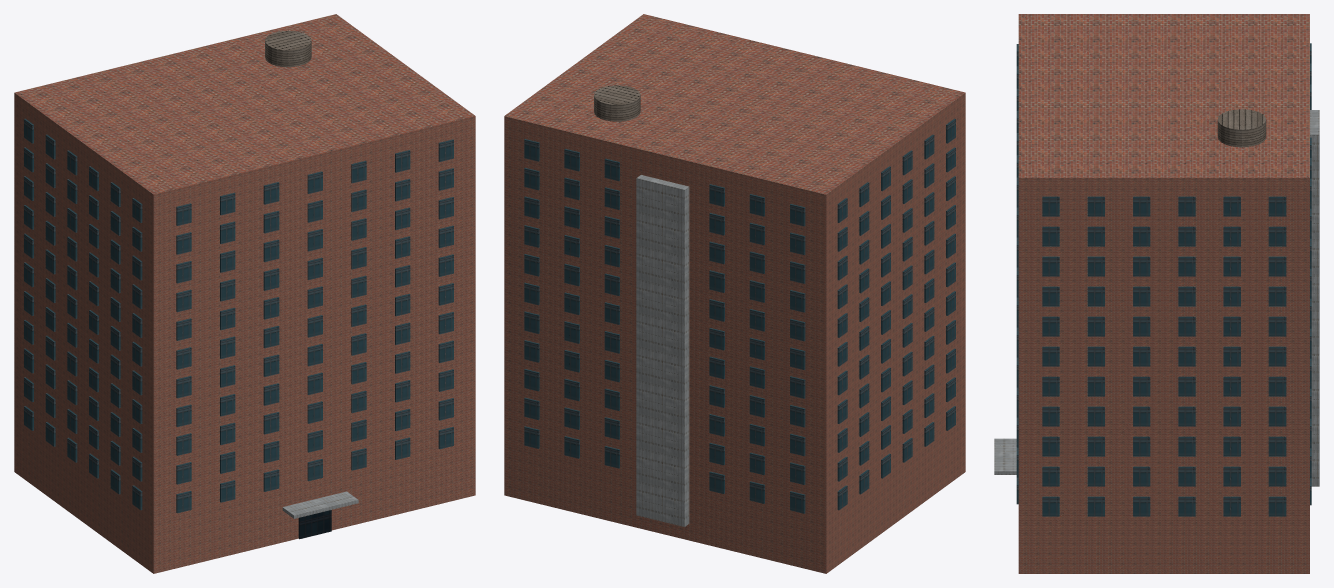
The model's file is brick-office-block_lod0.gltf.
3 renders of one model, left to right at view 1: azimuth 30°, elevation 25°; view 2: azimuth 150°, elevation 25°; view 3: azimuth 270°, elevation 25°, orthographic. The views are drawn at different scales.
Visible parts, largest first — view 1: brick-office-block_main, brick-office-block_fen_07-glass-curtain-blue_0, brick-office-block__water_tank, brick-office-block__marquee, brick-office-block_fen_07-glass-curtain-blue_1_t; view 2: brick-office-block_main, brick-office-block_fen_07-glass-curtain-blue_0, brick-office-block__fire_escape, brick-office-block__water_tank; view 3: brick-office-block_main, brick-office-block_fen_07-glass-curtain-blue_0, brick-office-block__fire_escape, brick-office-block__water_tank, brick-office-block__marquee.
Boxes of the visible parts, x1,y1,x2,y2 form: brick-office-block_main: (14,14,475,573); brick-office-block_fen_07-glass-curtain-blue_0: (24,118,453,513); brick-office-block__water_tank: (265,30,311,67); brick-office-block__marquee: (282,491,358,518); brick-office-block_fen_07-glass-curtain-blue_1_t: (298,510,331,539); brick-office-block_main: (504,14,965,573); brick-office-block_fen_07-glass-curtain-blue_0: (524,118,955,513); brick-office-block__fire_escape: (636,175,689,526); brick-office-block__water_tank: (594,85,640,121); brick-office-block_main: (1018,14,1309,573); brick-office-block_fen_07-glass-curtain-blue_0: (1016,43,1311,516); brick-office-block__fire_escape: (1310,110,1319,486); brick-office-block__water_tank: (1217,109,1266,147); brick-office-block__marquee: (994,438,1016,474).
Bounding box in the file's own units: 40.4 × 47 × 33.5.
